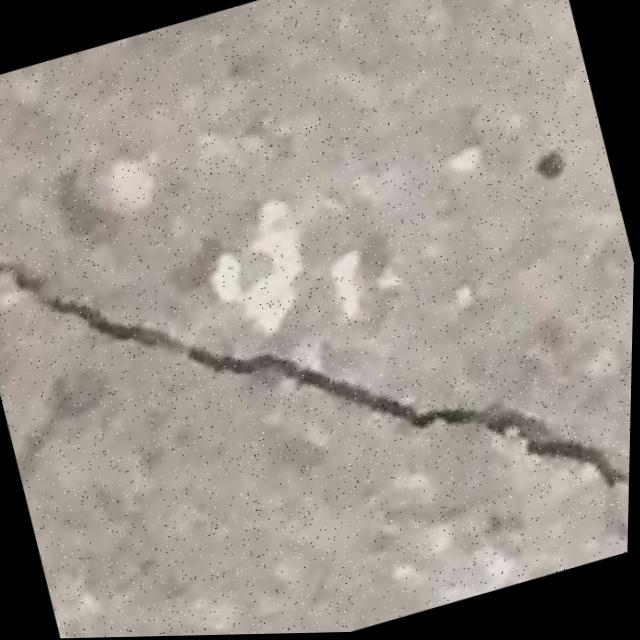Crack: (0, 62, 639, 640)
